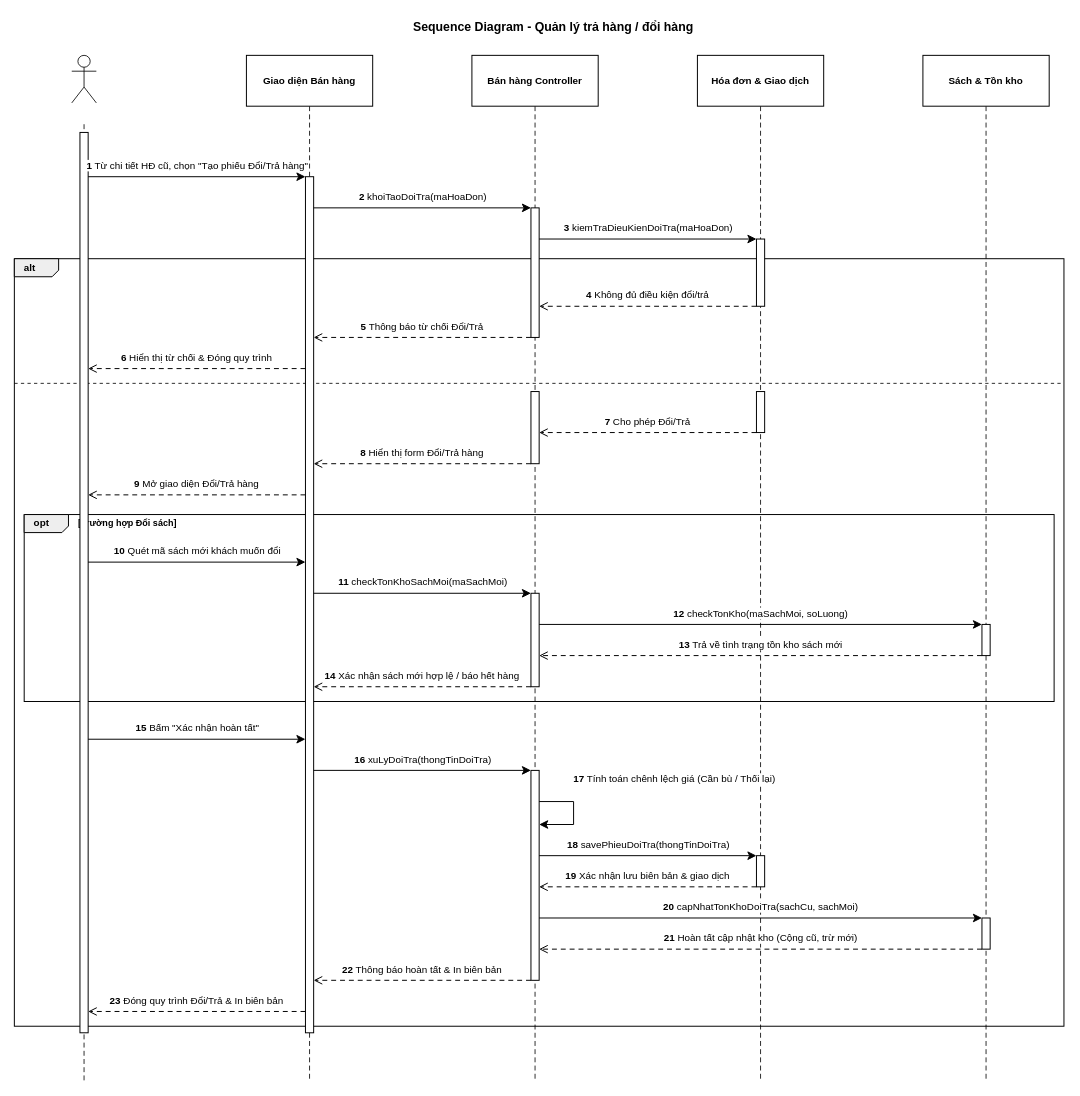
Some shapes in this 1080 by 1096 pixel diagram are drawn without their labels. The centre of each missing label's shape, as x and y in pixels:
"[Vi phạm điều kiện (Quá 7 ngày, sách rách...)]" belongs at point (202, 267).
"[Đủ điều kiện Đổi/Trả]" belongs at point (91, 392).
"Nhân viên / Quản lý" belongs at point (83, 79).
